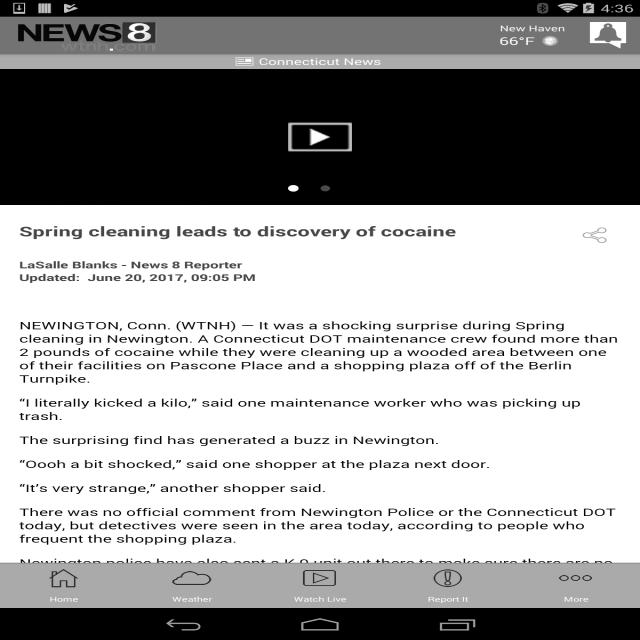ImageButton: (580, 226, 612, 246)
ImageView: (18, 22, 183, 51), (288, 117, 352, 157), (587, 22, 629, 49), (535, 34, 565, 48), (236, 57, 253, 66), (13, 35, 14, 36)
RadioButton: (0, 564, 128, 608), (128, 564, 256, 608), (256, 564, 384, 608), (384, 564, 512, 608), (512, 564, 640, 608)
TextView: (19, 222, 575, 240), (19, 258, 621, 271), (19, 271, 621, 284), (259, 55, 381, 68), (500, 22, 566, 34), (499, 34, 535, 48)
